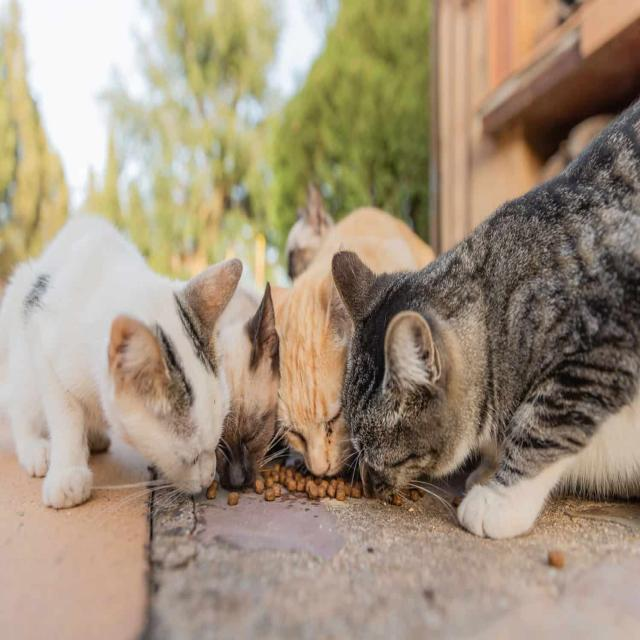cat: (332, 99, 640, 537), (0, 216, 242, 508), (274, 206, 434, 476), (216, 283, 280, 489)
